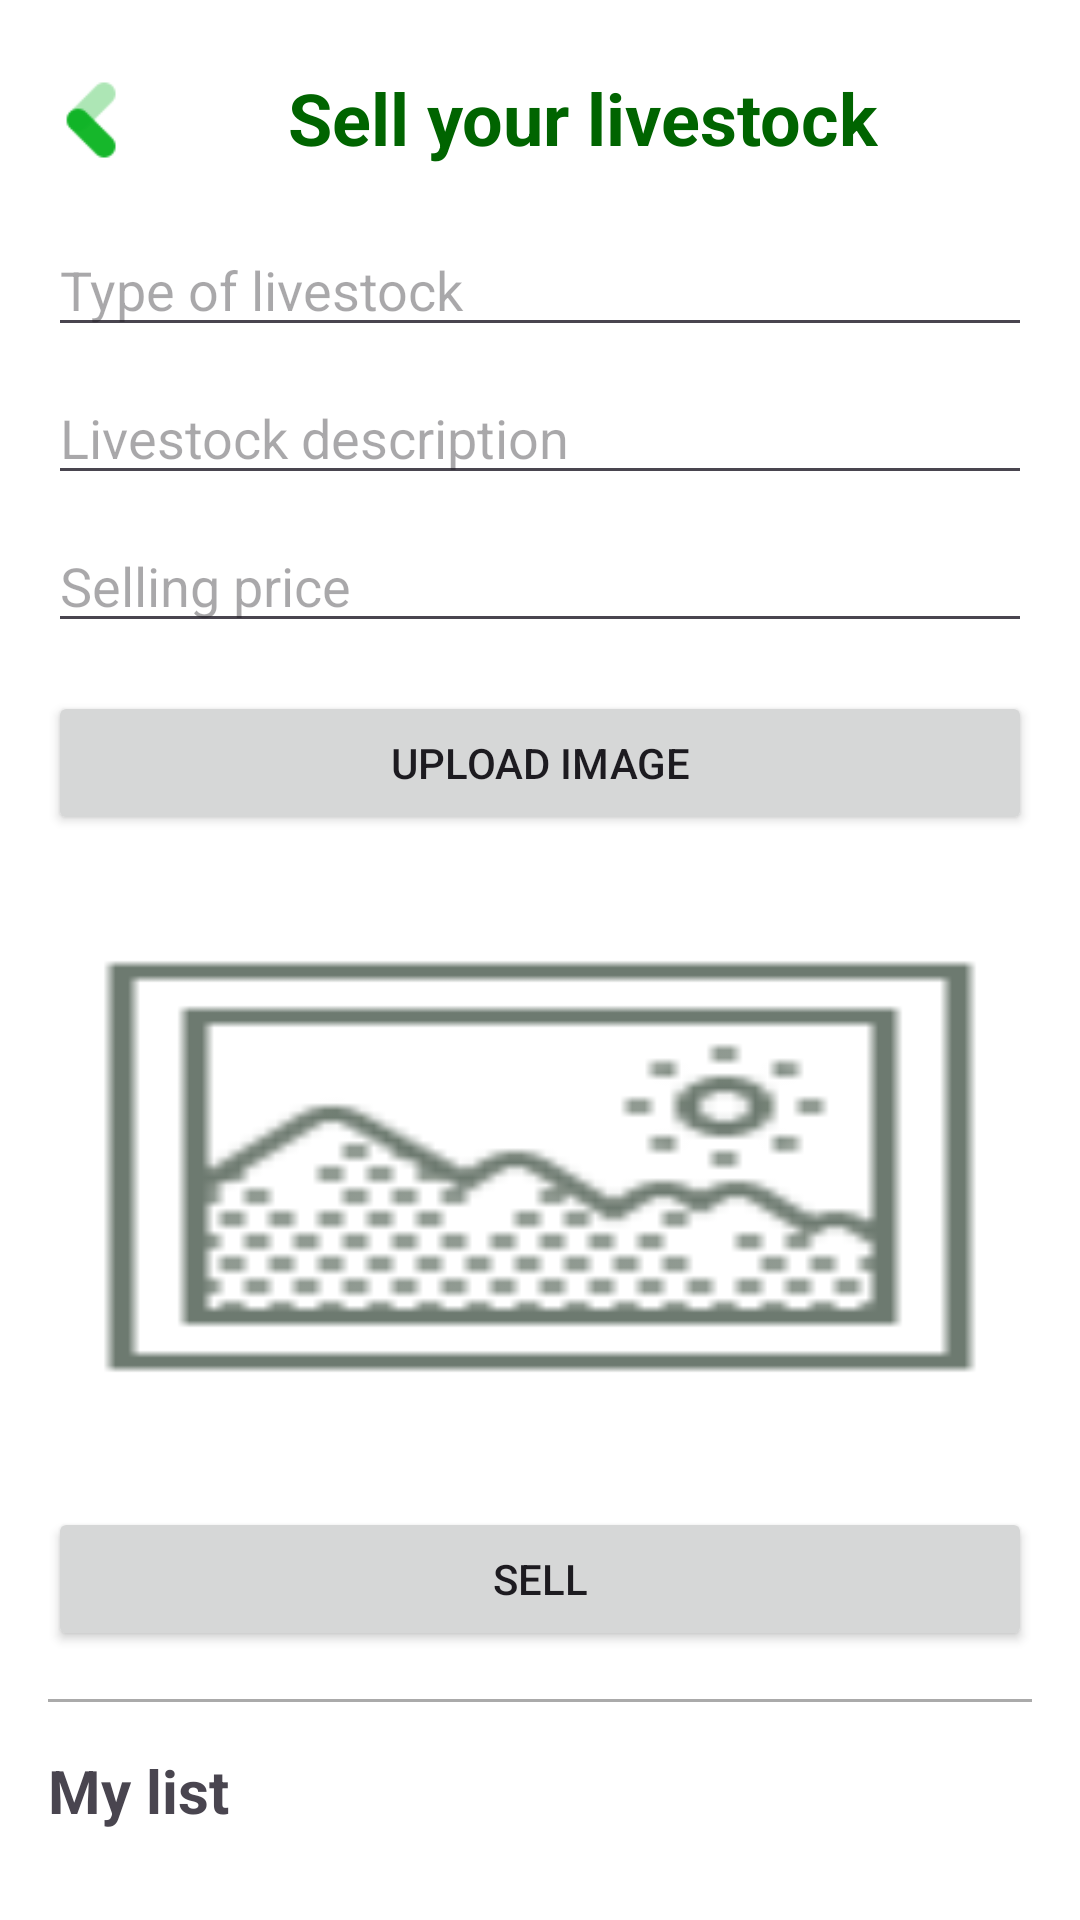

Locate icon controls on the screen. Image size 1080px×1920px, boxes as (left=x1, top=y1, right=x2, bottom=y2).
back: (left=66, top=82, right=116, bottom=158)
